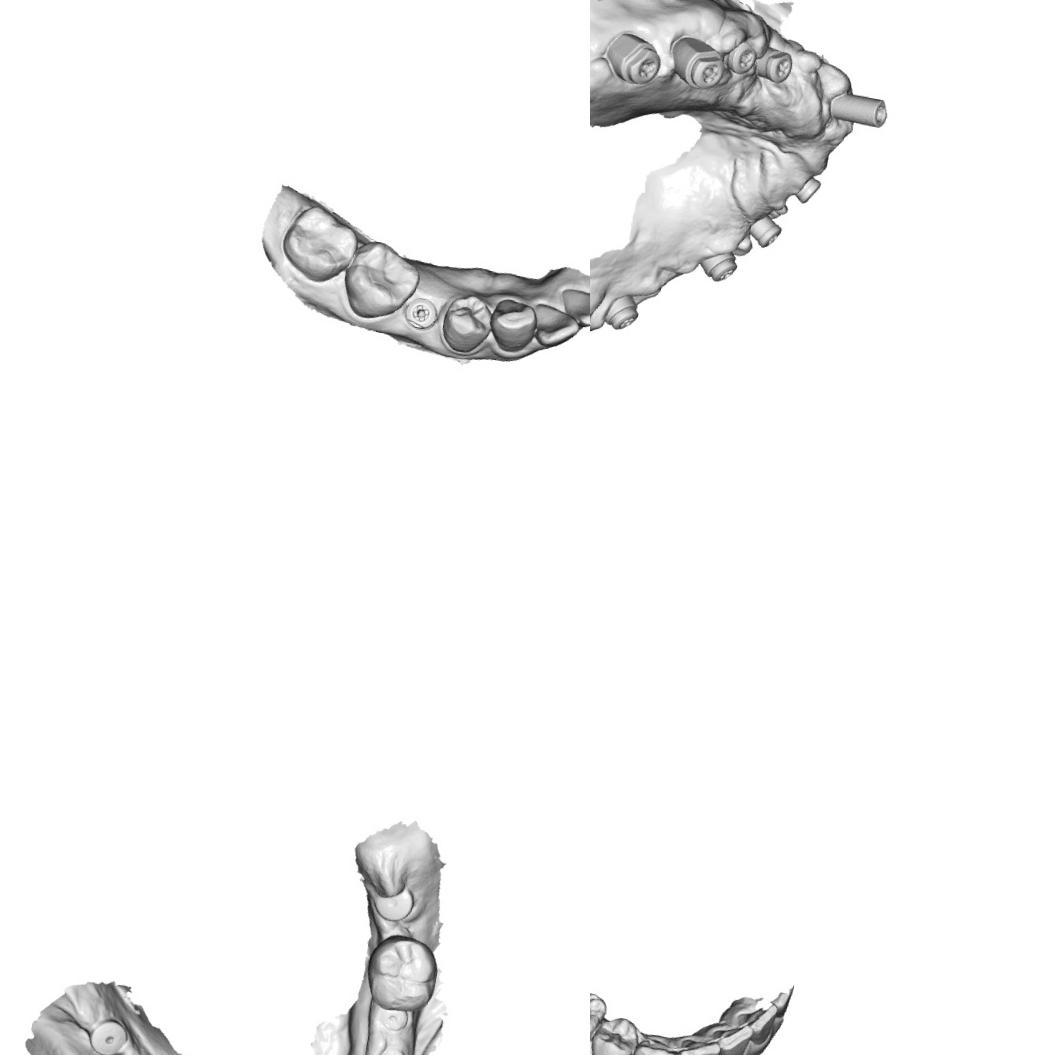canine: (484, 292, 540, 357), (626, 1032, 683, 1055)
implant: (829, 88, 892, 132), (368, 880, 418, 924), (83, 1013, 130, 1055), (744, 210, 788, 251), (786, 168, 827, 208), (375, 1006, 410, 1032), (372, 1042, 408, 1055)
implant_minus: (601, 28, 665, 92)
implant_plus: (666, 29, 730, 92), (598, 286, 646, 334), (399, 290, 443, 336), (699, 244, 743, 286), (757, 43, 795, 89), (723, 39, 762, 83)
incisor: (524, 291, 586, 352), (734, 997, 780, 1047), (703, 1017, 754, 1055), (554, 284, 590, 331), (672, 1032, 724, 1055)
molar: (336, 233, 426, 328), (273, 198, 365, 290), (590, 970, 611, 1055)
premolar: (359, 929, 443, 1017), (436, 287, 499, 359), (590, 1011, 643, 1055)
